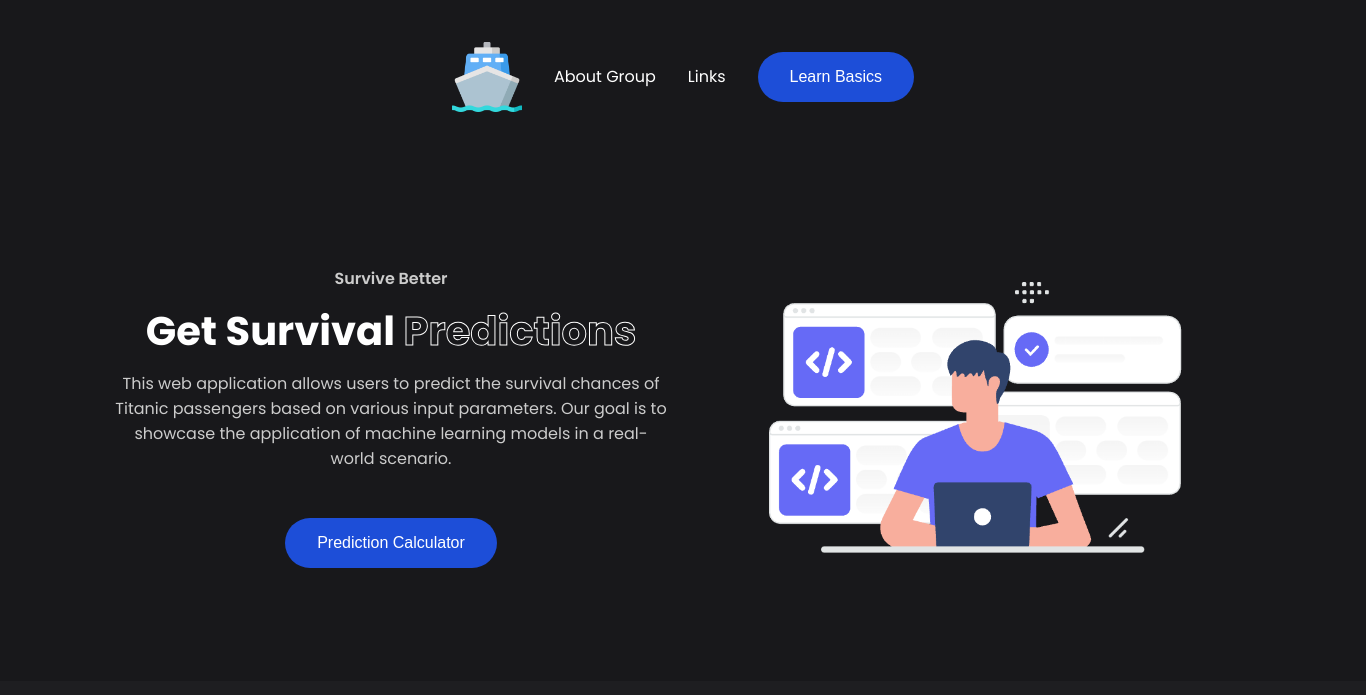
Test: Sample Test › Navigation Test › should navigate to Home and Learn Basics pages
Note: Ensure the Learn Basics button is visible and click it
Click the button "Learn Basics": click(837, 77) 758,52 -> 915,102
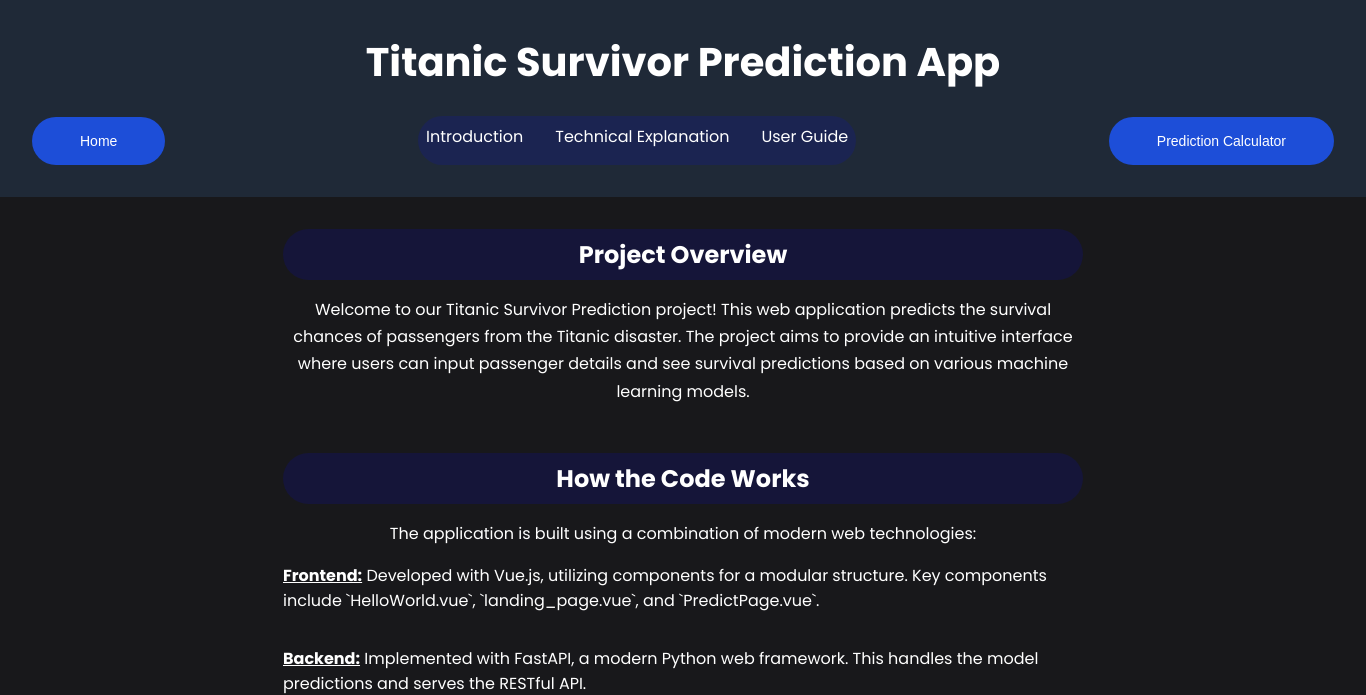
Result: the heading "Titanic Survivor Prediction App" is shown at 366,32 -> 1000,92
Go "back"
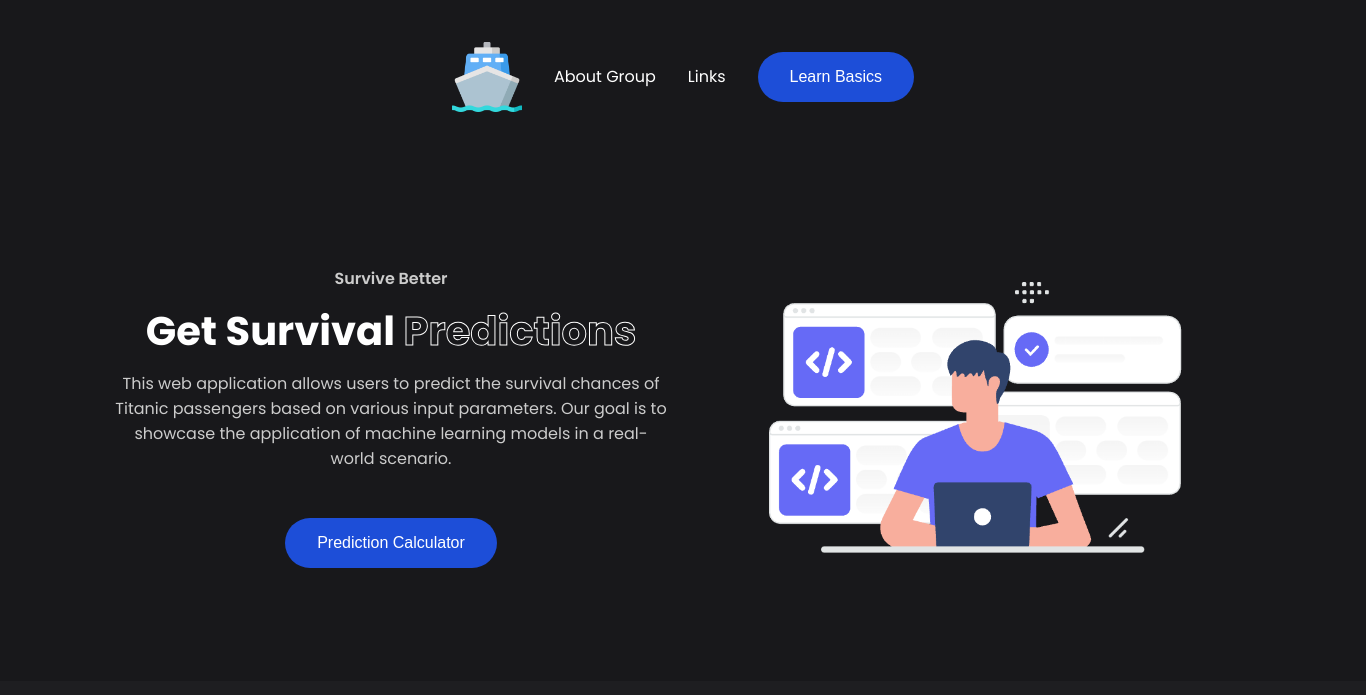
Note: Ensure the Prediction Calculator button is visible and click it
Click the button "Prediction Calculator": click(391, 543) 285,518 -> 497,568
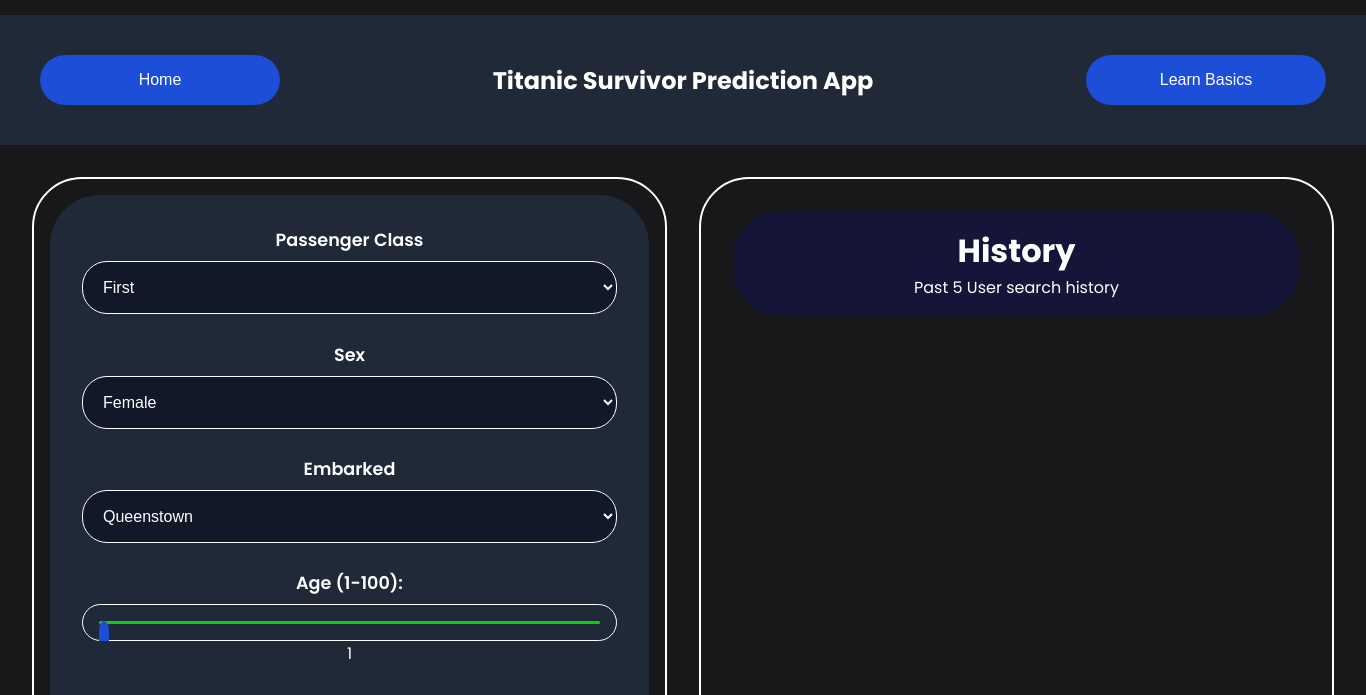
Result: the heading "Titanic Survivor Prediction App" is shown at 493,64 -> 873,97
